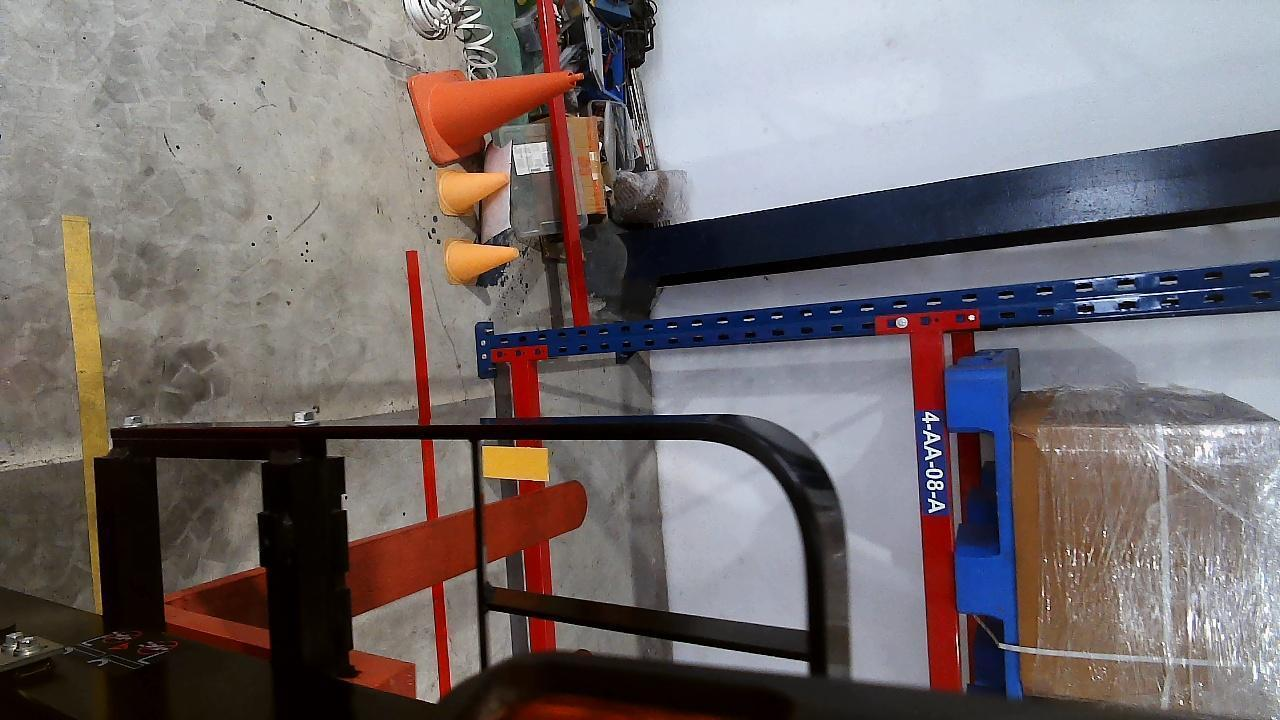red_line: (406, 251, 450, 686)
yellow_line: (61, 214, 110, 453)
